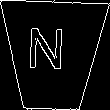N_S: (33, 30, 74, 81)
